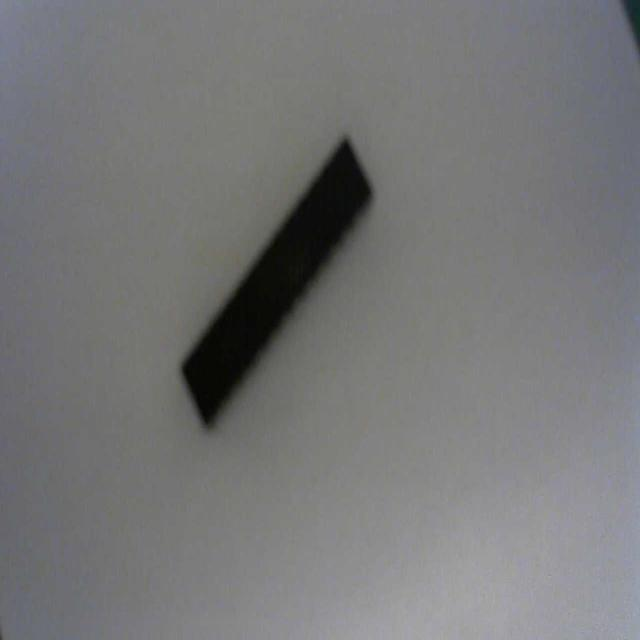atmega: (178, 131, 376, 433)
